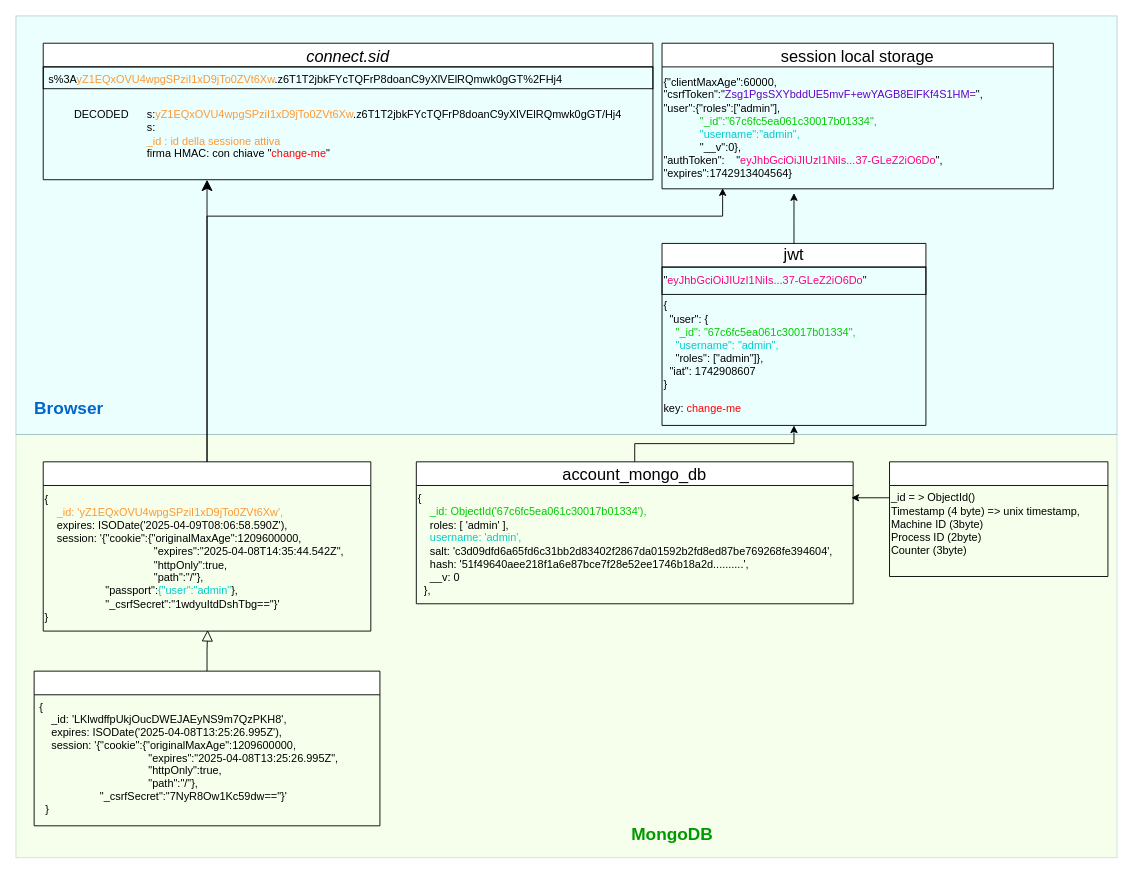
Image size: 1133x874. Some labels were removed from this diagram. Each missing label, with the box of its shape:
_id: '67c6fc5ea061c30017b01334': (889, 461, 1108, 576)
session_active_mongo_db: (42, 461, 371, 631)
session_logout_mongo_db: (33, 670, 380, 826)
